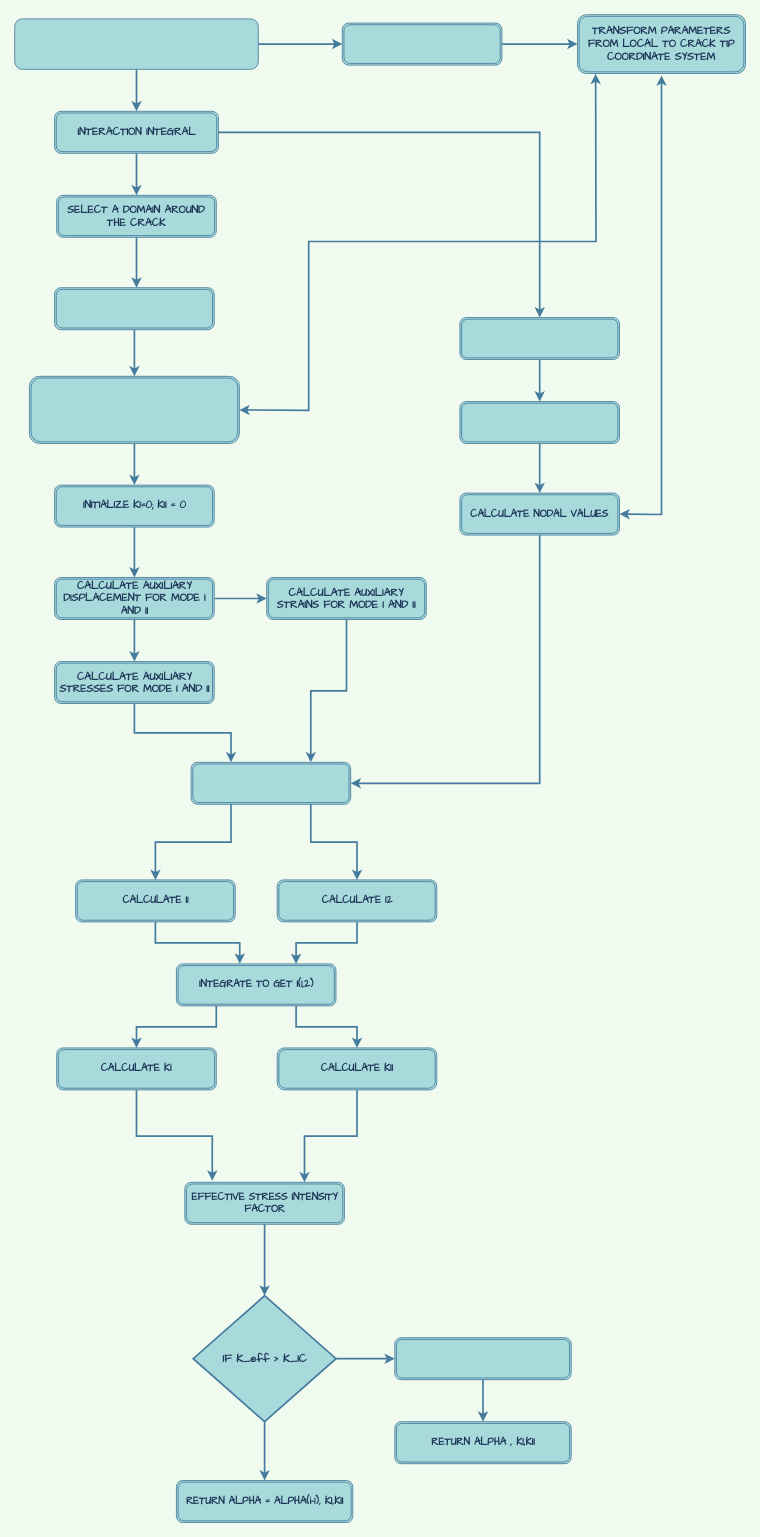
The diagram is 760 pixels wide and 1537 high, and some of its shapes have lost their labels. Here are the shapes that lost their labels. From the top down, the centre of each, then its label:
(x=136, y=43): INPUTS: STRESS, DISPLACEMENTS, ALPHA FROM XFEM
(x=421, y=43): CALCULATED DISPLACEMENT GRADIENT, AND STRESSES
(x=134, y=308): DETERMINE GAUSS POINT COORDINATES
(x=539, y=338): SHAPE FUNCTION DERIVATIVES W.R.T X AND Y COORDINATES
(x=134, y=409): CALCULATE R AND THETA(DISTANCE, AND ANGLE FROM CRACKTIP TO THE GAUSS POINT)
(x=539, y=422): CALCULATE B-MATRIX
(x=270, y=782): CALCULATE STRAIN ENERGY
(x=482, y=1358): CALCULATE CRITICAL ANGLE, ALPHA
